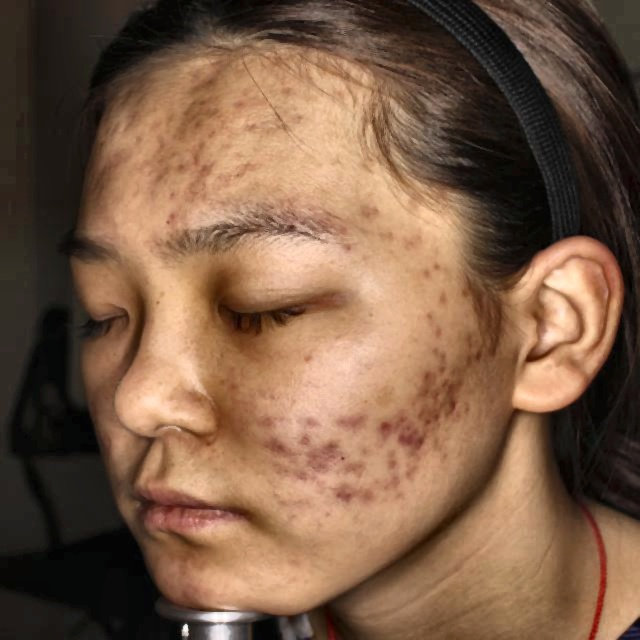pustule: (182, 158, 226, 192), (443, 378, 470, 421), (252, 441, 296, 465), (394, 422, 424, 455), (414, 370, 442, 401), (313, 439, 339, 471), (453, 272, 476, 305), (325, 480, 361, 500), (339, 406, 371, 428), (375, 418, 393, 442)
